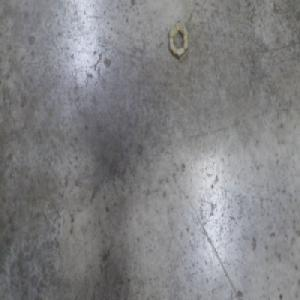Nut: (168, 19, 189, 60)
